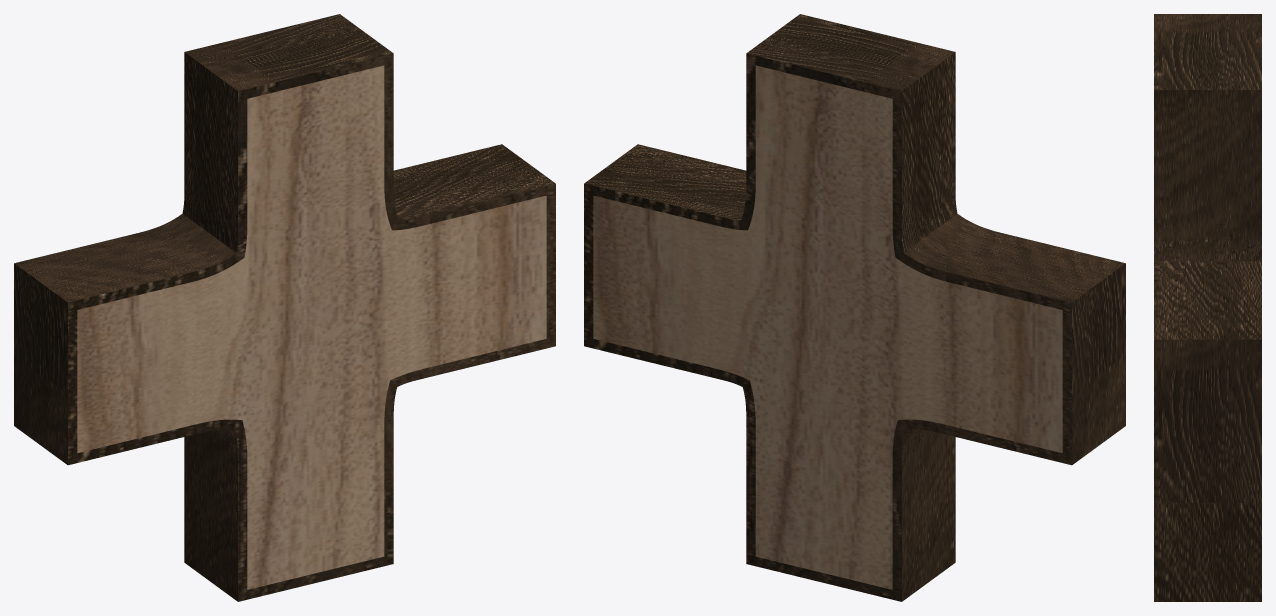
File: Plus.FBX
3 renders of one model, left to right at view 1: azimuth 30°, elevation 25°; view 2: azimuth 150°, elevation 25°; view 3: azimuth 270°, elevation 25°, orthographic.
Parts seen in each view (by area): view 1: Plus, Plus_outline; view 2: Plus, Plus_outline; view 3: Plus_outline.
Part boxes in pixels (x1,y1,x2,y2): Plus: [77, 65, 546, 589]; Plus_outline: [14, 14, 555, 601]; Plus: [593, 65, 1062, 589]; Plus_outline: [584, 14, 1125, 601]; Plus_outline: [1154, 14, 1261, 601].
Bounding box in the file's own units: 52.4 × 52.4 × 10.
2 materials, 2 textured.
